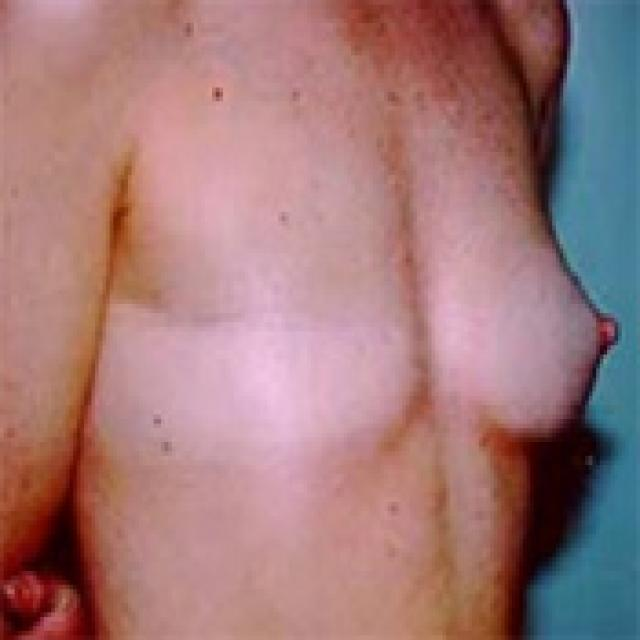Seno herido: (95, 198, 424, 478)
Seno ileso: (437, 201, 623, 475)
